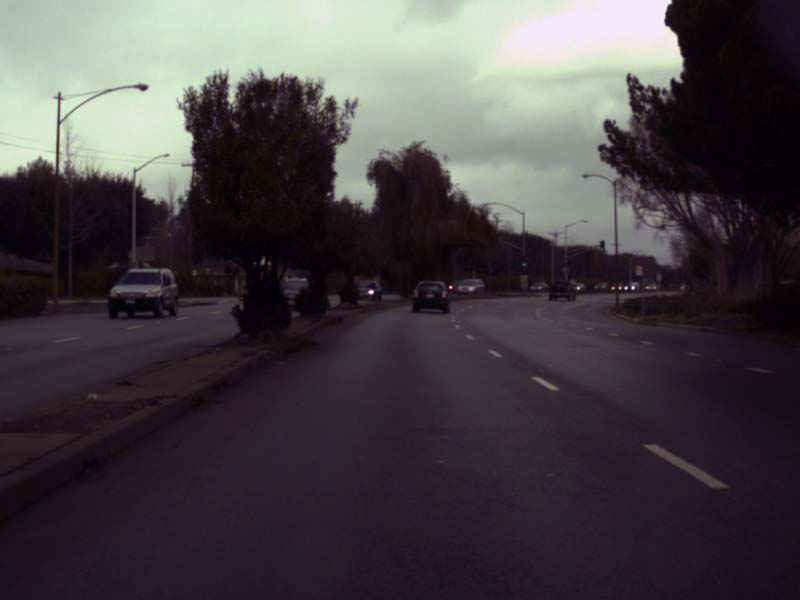Green: (521, 255, 526, 268), (599, 239, 604, 251), (657, 265, 661, 276)
